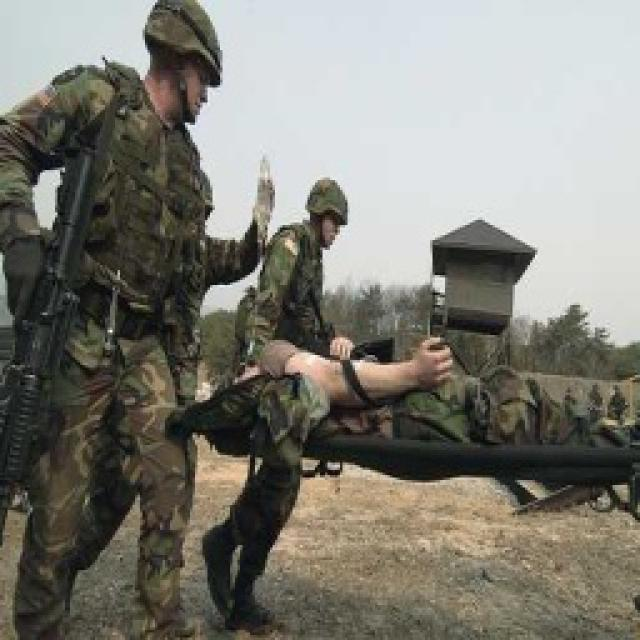long weapon: (0, 141, 141, 527)
